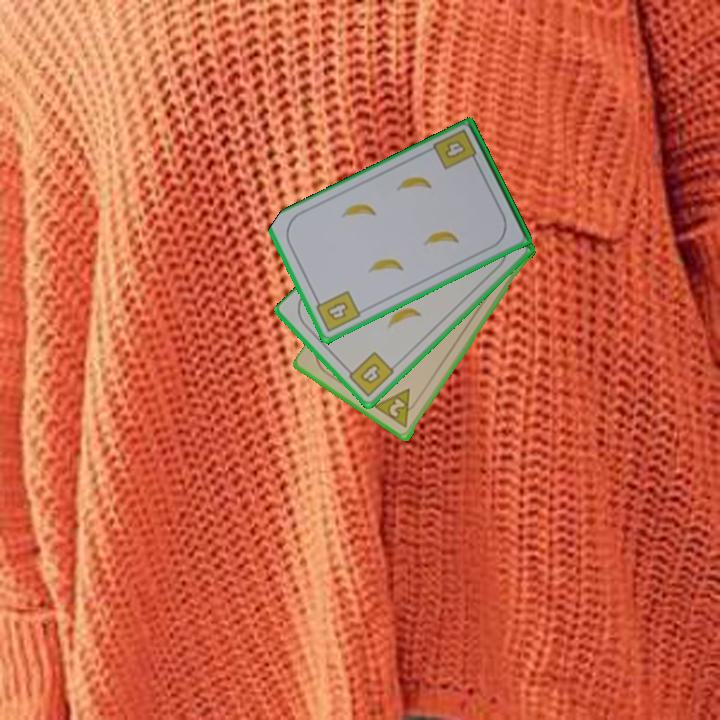2p: (372, 385, 422, 431)
4b: (342, 348, 397, 400), (311, 287, 363, 335), (430, 126, 481, 171)
